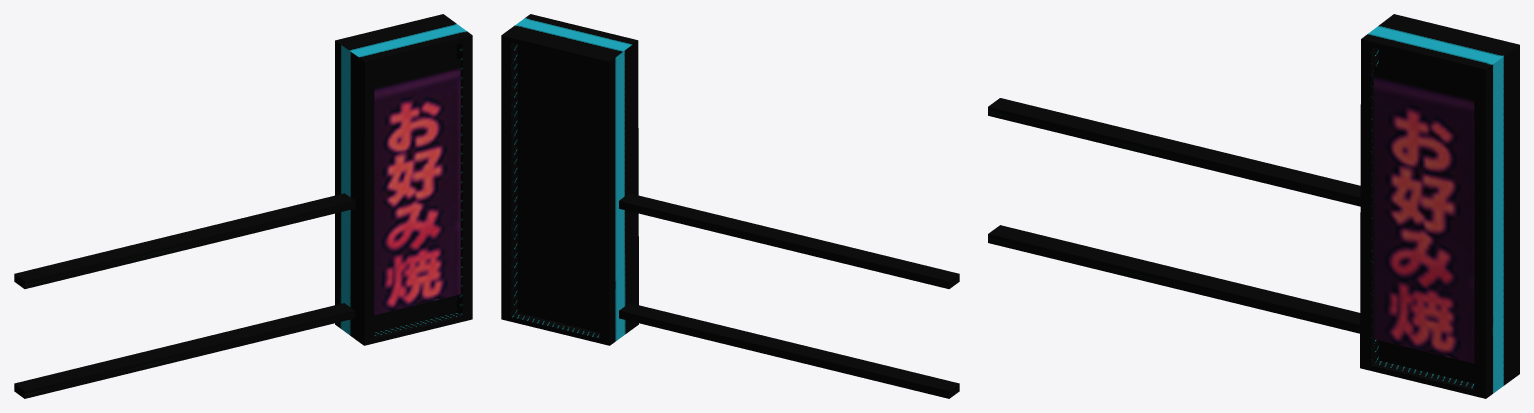
The model's file is Japanese_Sign_09_Art.fbx.
3 views of the same model, side by side, from view 1: azimuth 30°, elevation 25°; view 2: azimuth 150°, elevation 25°; view 3: azimuth 330°, elevation 25° (orthographic). The views are drawn at different scales.
Parts seen in each view (by area): view 1: Japanese_Sign_09; view 2: Japanese_Sign_09; view 3: Japanese_Sign_09.
Part boxes in pixels (x1,y1,x2,y2): Japanese_Sign_09: [14, 14, 472, 398]; Japanese_Sign_09: [501, 14, 959, 398]; Japanese_Sign_09: [988, 14, 1519, 398].
Bounding box in the file's own units: 1.09 × 0.676 × 0.1264.
